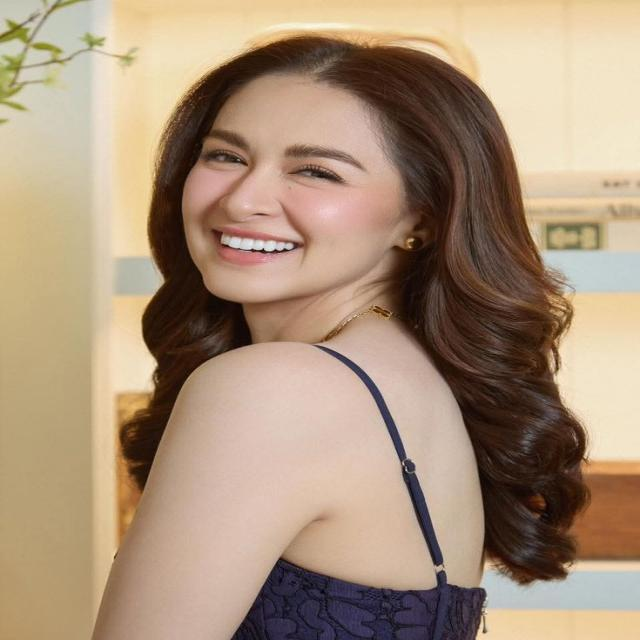sem_oculos: (170, 123, 445, 204)
